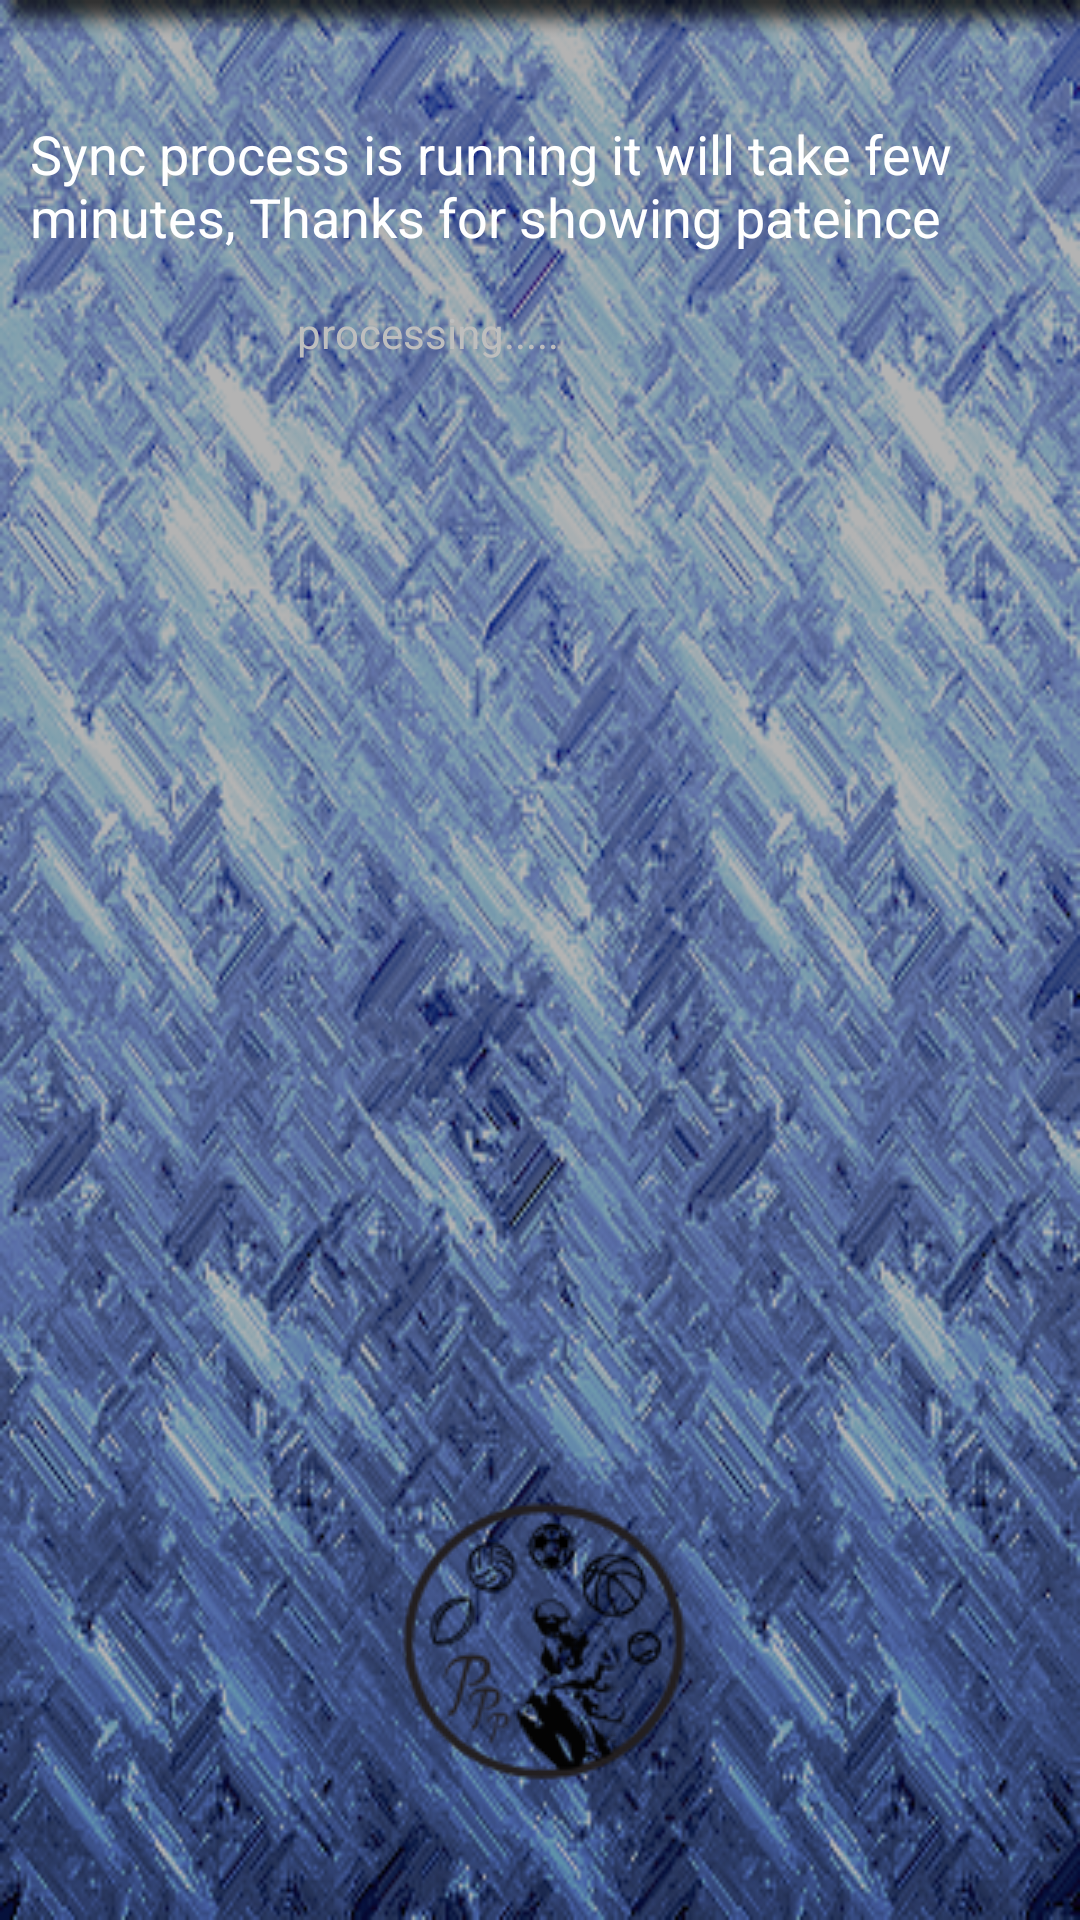

Icons on this 1080*1920 Android screen, each with the point to tap as [x,y]:
circle: [539,1636]
